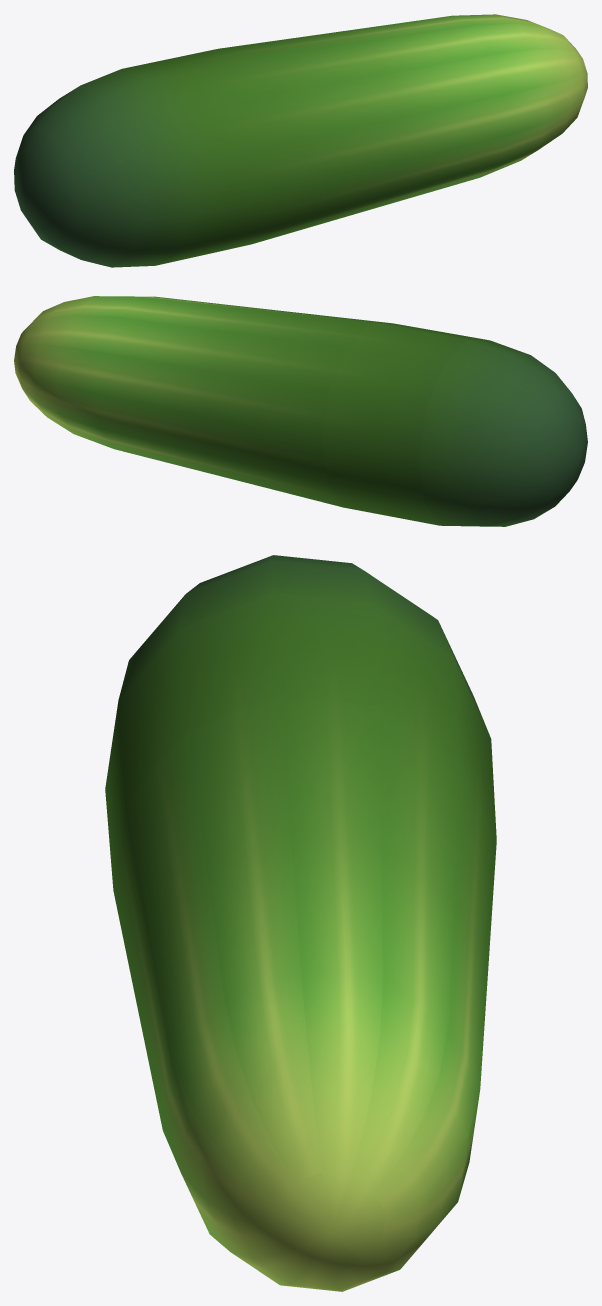
Rendered from Cucumber.fbx.
3 views of the same model, one above another, from view 1: azimuth 30°, elevation 25°; view 2: azimuth 150°, elevation 25°; view 3: azimuth 270°, elevation 25° (orthographic). The views are drawn at different scales.
Visible parts, largest first — view 1: Cucumber; view 2: Cucumber; view 3: Cucumber.
Part boxes in pixels (bbox=[...]): Cucumber: bbox=[14, 14, 587, 267]; Cucumber: bbox=[14, 296, 587, 526]; Cucumber: bbox=[105, 555, 496, 1291].
Size of the model in its own units: 8.87 by 2.73 by 2.72.
